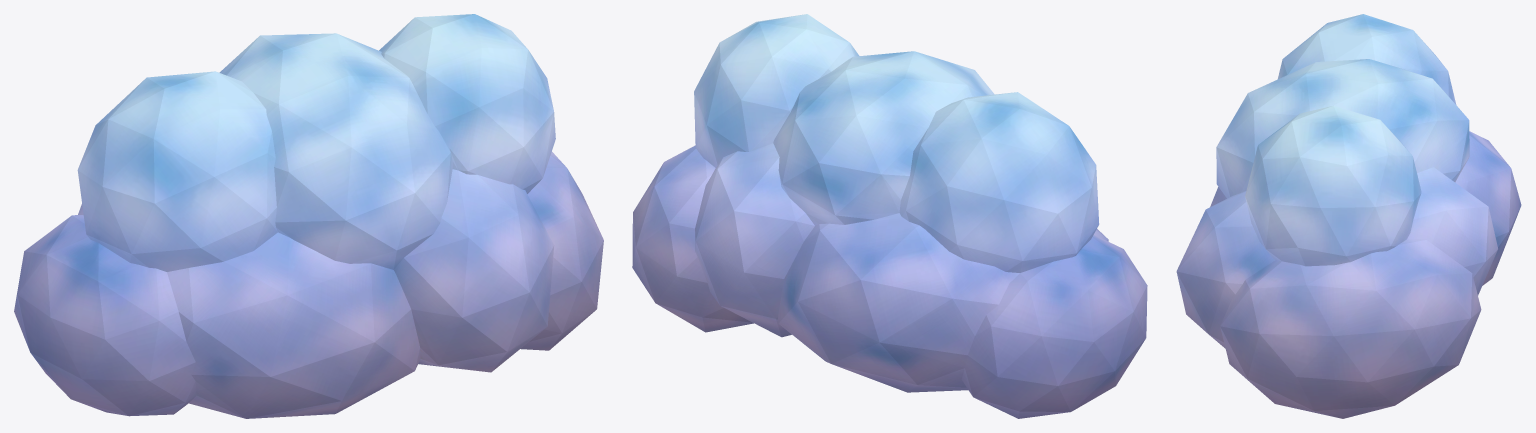
File: cloud.glb
The picture shows the model from 3 angles, left to right: view 1: azimuth 30°, elevation 25°; view 2: azimuth 150°, elevation 25°; view 3: azimuth 270°, elevation 25°; orthographic projection. The views are drawn at different scales.
Parts seen in each view (by area): view 1: Icosphere 2_Cloud2_0; view 2: Icosphere 2_Cloud2_0; view 3: Icosphere 2_Cloud2_0.
Boxes of the visible parts, <box> form: Icosphere 2_Cloud2_0: <box>14,14,603,418</box>; Icosphere 2_Cloud2_0: <box>632,14,1147,418</box>; Icosphere 2_Cloud2_0: <box>1176,14,1521,418</box>.
Size of the model in its own units: 9.74 by 6.02 by 6.7.
Materials: 1 (1 with a texture image).
